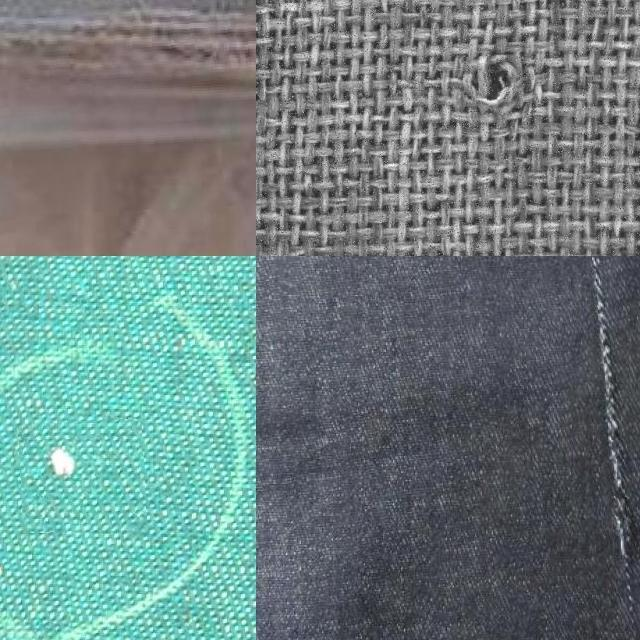other: (458, 56, 516, 106)
stains: (501, 256, 640, 640), (20, 420, 146, 532)
